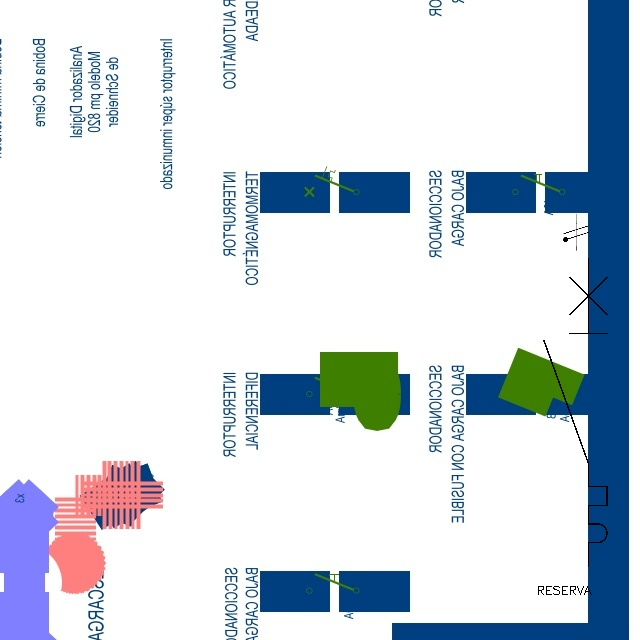interruptor_termomagnetico: (536, 250, 615, 574)
